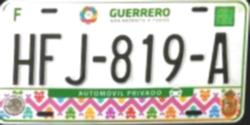License_Plate: (0, 4, 246, 121)
